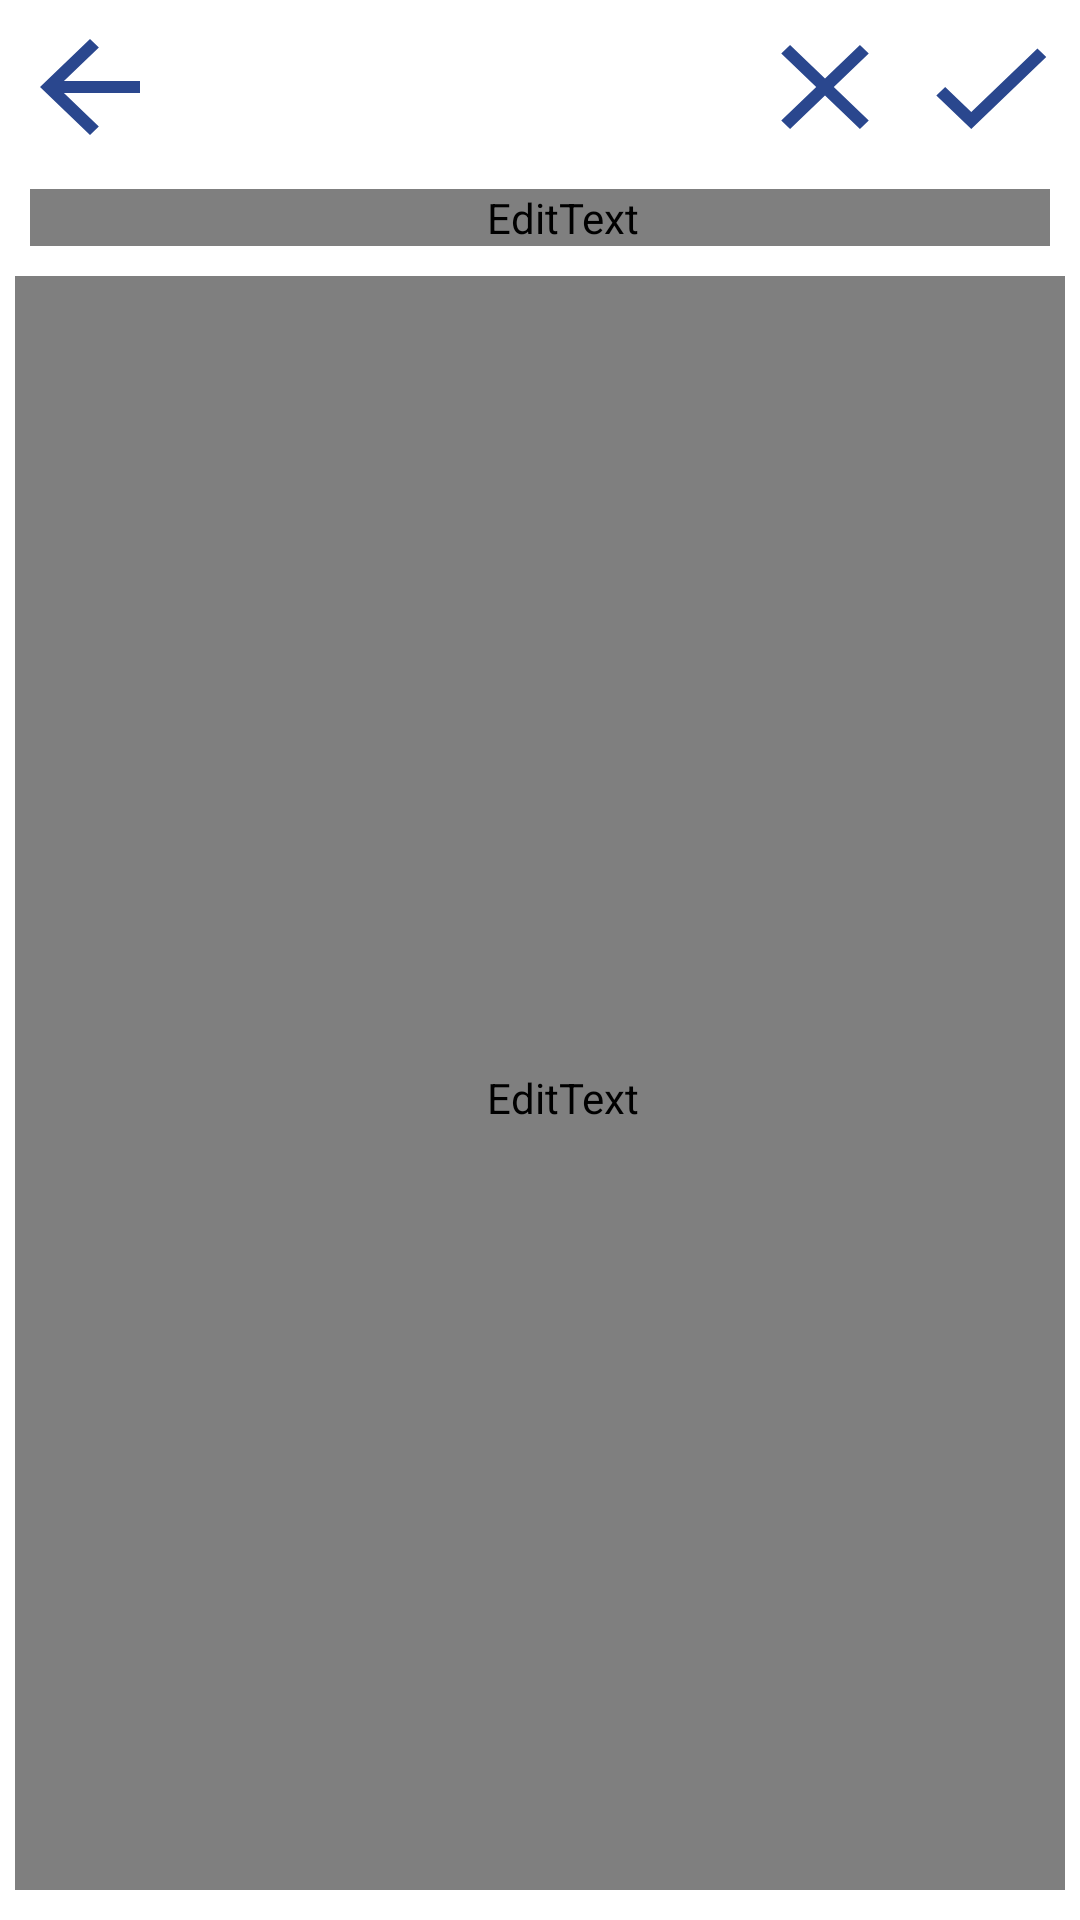

Where icons sit on this 1080 × 1920 app screen, as box=[x1, y1, x2, y2]:
arrow back: box=[40, 39, 140, 135]
check: box=[936, 48, 1046, 129]
close: box=[781, 45, 869, 129]
